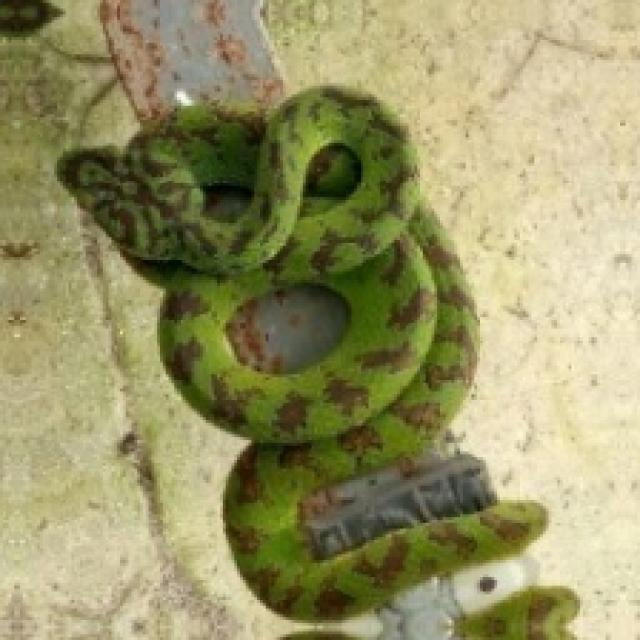philippine pitviper: (57, 86, 546, 617)
